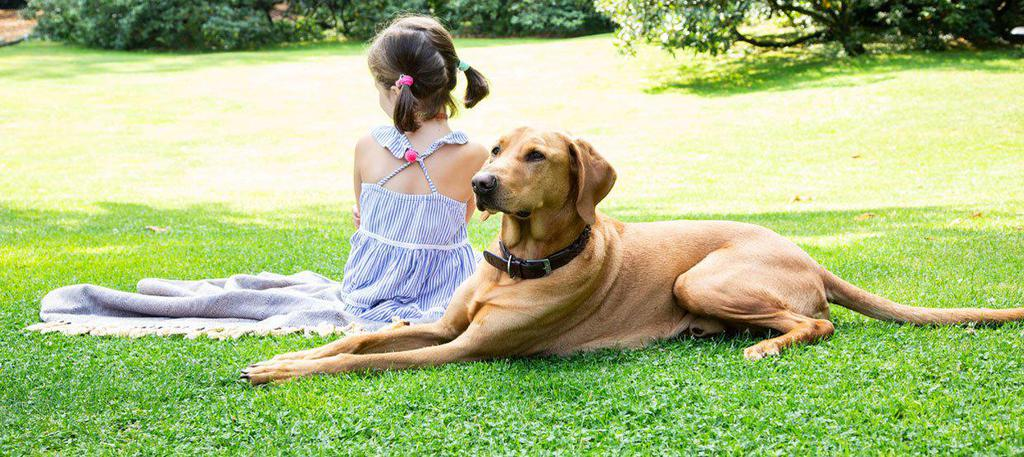child: (336, 18, 485, 320)
